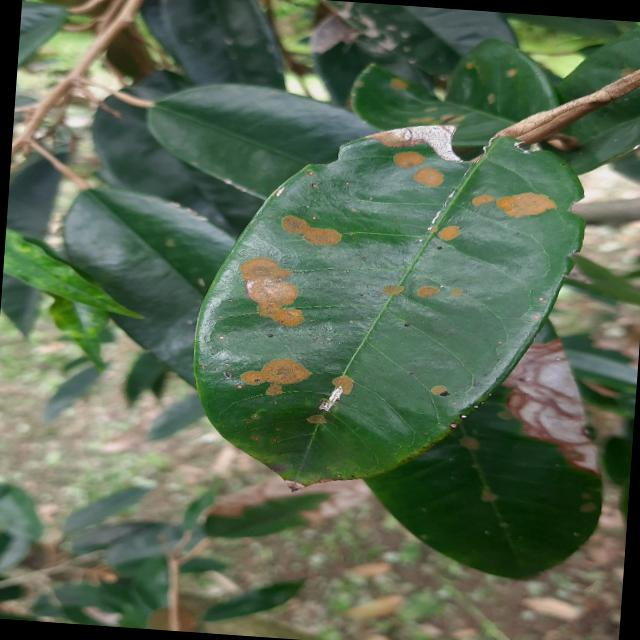Algal Leaf Spot: (179, 104, 595, 510)
